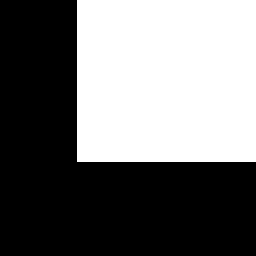rumex: (77, 0, 256, 161)
